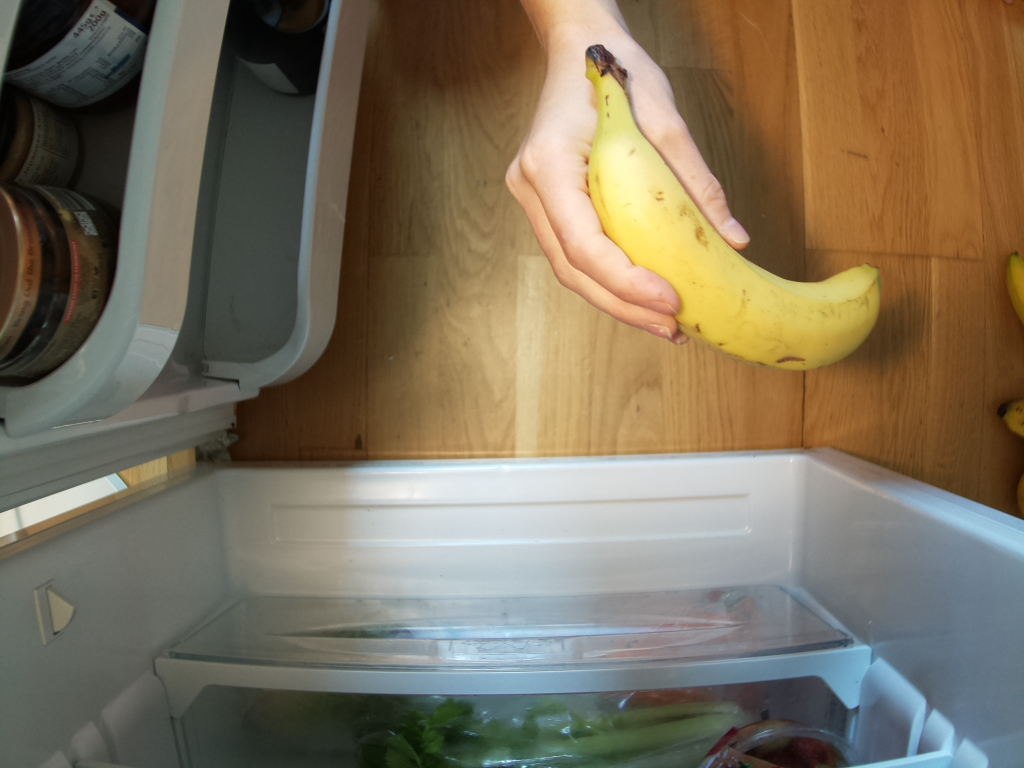banana: (577, 33, 884, 368)
